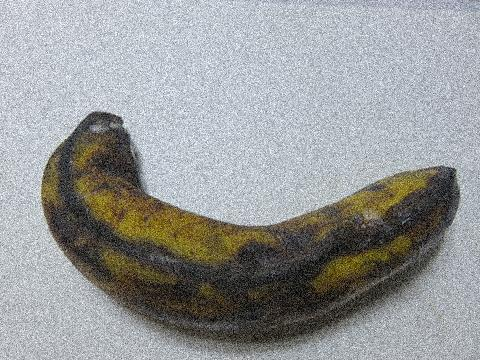overripe: (32, 99, 460, 354)
rotten: (60, 96, 167, 177)
